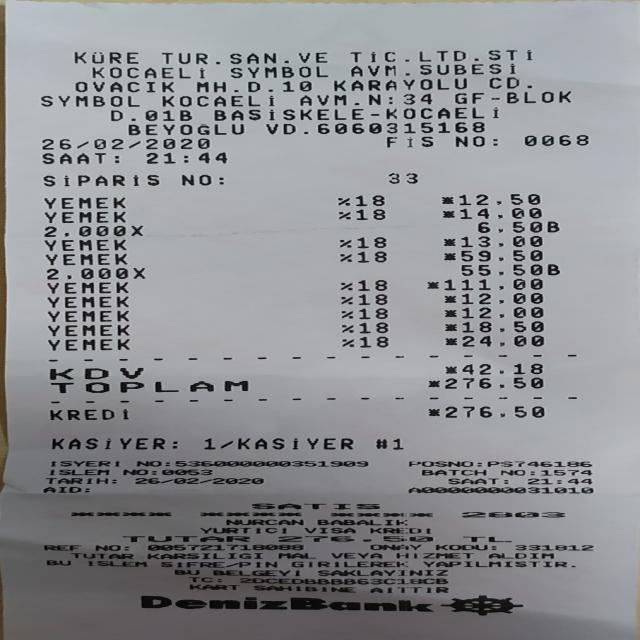text: (136, 595, 433, 612), (267, 122, 483, 134), (349, 48, 531, 62), (49, 380, 248, 392), (41, 136, 207, 148), (213, 107, 362, 120), (52, 436, 166, 451), (238, 436, 352, 451), (178, 459, 368, 468), (239, 577, 446, 585), (195, 78, 312, 92), (332, 78, 467, 90), (38, 174, 162, 187), (382, 106, 503, 119), (160, 93, 276, 106), (89, 65, 204, 78), (441, 405, 552, 418), (422, 558, 565, 568), (44, 266, 145, 280), (146, 543, 303, 552), (251, 500, 379, 511), (403, 486, 595, 493), (38, 94, 138, 107), (126, 123, 244, 134), (229, 64, 328, 77), (459, 263, 558, 276), (443, 376, 542, 389), (422, 62, 520, 75), (278, 534, 432, 542), (461, 508, 563, 520), (439, 278, 541, 290), (459, 334, 546, 348), (73, 80, 174, 92), (42, 225, 141, 237), (286, 558, 404, 568), (46, 367, 143, 379), (460, 320, 549, 333), (44, 280, 126, 294), (46, 294, 128, 308), (459, 362, 543, 375), (43, 238, 125, 251), (46, 309, 128, 322), (43, 210, 124, 223), (459, 292, 544, 304), (476, 220, 560, 232), (46, 324, 130, 336), (122, 534, 248, 542), (46, 338, 129, 350), (522, 133, 588, 148), (144, 151, 226, 163), (458, 250, 547, 261), (44, 196, 125, 208), (71, 50, 138, 64), (486, 459, 590, 468), (459, 236, 544, 247), (457, 193, 541, 204), (147, 552, 260, 560), (317, 569, 446, 576), (134, 477, 262, 484), (44, 253, 125, 264), (47, 408, 128, 419), (506, 90, 572, 103), (459, 208, 543, 218), (460, 307, 544, 317), (42, 151, 105, 164), (252, 584, 354, 592), (384, 134, 435, 148), (515, 543, 592, 552), (395, 551, 471, 560), (200, 526, 285, 534), (229, 49, 277, 63), (340, 292, 388, 306), (160, 50, 206, 64), (297, 92, 346, 105), (160, 558, 222, 568), (211, 569, 299, 576), (451, 134, 494, 148), (486, 551, 552, 560), (408, 459, 471, 468), (70, 551, 132, 560), (225, 518, 303, 525), (47, 460, 122, 467), (316, 519, 403, 525), (86, 560, 151, 568), (370, 543, 420, 552), (453, 90, 485, 104), (331, 551, 380, 560), (489, 76, 520, 90), (435, 543, 483, 552), (180, 172, 210, 186), (368, 527, 428, 534), (48, 468, 107, 475), (236, 558, 277, 568), (358, 308, 392, 320), (298, 48, 327, 62), (45, 477, 103, 484), (356, 236, 389, 248), (354, 279, 390, 290), (357, 322, 390, 334), (188, 583, 237, 591), (402, 91, 432, 104), (420, 470, 485, 476), (527, 478, 592, 484), (355, 251, 386, 263), (360, 336, 390, 348), (353, 195, 385, 206), (160, 468, 210, 475), (387, 172, 416, 184), (43, 543, 79, 552), (278, 551, 314, 560), (303, 527, 355, 533), (492, 133, 512, 148), (448, 478, 498, 484), (357, 210, 386, 220), (543, 470, 591, 476), (466, 535, 504, 542), (402, 62, 420, 76), (168, 436, 184, 451), (42, 486, 80, 492), (94, 543, 119, 552), (367, 106, 383, 120), (372, 439, 392, 449), (334, 338, 356, 347), (173, 569, 199, 576), (220, 436, 232, 451), (203, 436, 214, 451), (337, 310, 355, 319), (135, 460, 162, 466), (122, 468, 145, 475), (332, 240, 352, 248), (426, 376, 438, 389), (188, 577, 210, 584), (440, 309, 459, 317), (440, 323, 459, 331), (335, 282, 354, 290), (338, 324, 357, 332), (50, 558, 66, 567), (441, 365, 457, 374), (425, 408, 443, 416), (442, 338, 462, 345), (440, 210, 457, 218), (393, 436, 402, 451), (335, 254, 354, 261), (501, 470, 523, 476), (490, 90, 500, 103), (334, 197, 350, 205), (335, 212, 353, 219), (442, 251, 456, 260), (441, 295, 456, 303), (440, 238, 457, 245), (282, 48, 290, 62), (422, 282, 437, 289), (387, 92, 394, 105), (437, 197, 450, 204), (526, 76, 532, 90), (113, 151, 119, 164), (213, 49, 218, 63), (121, 543, 128, 552), (218, 172, 222, 186), (166, 459, 172, 468), (568, 559, 574, 568), (476, 459, 481, 468), (490, 543, 495, 552), (149, 468, 155, 475), (110, 477, 116, 484), (530, 470, 535, 476), (502, 478, 507, 484), (82, 486, 86, 492), (217, 576, 220, 584)
